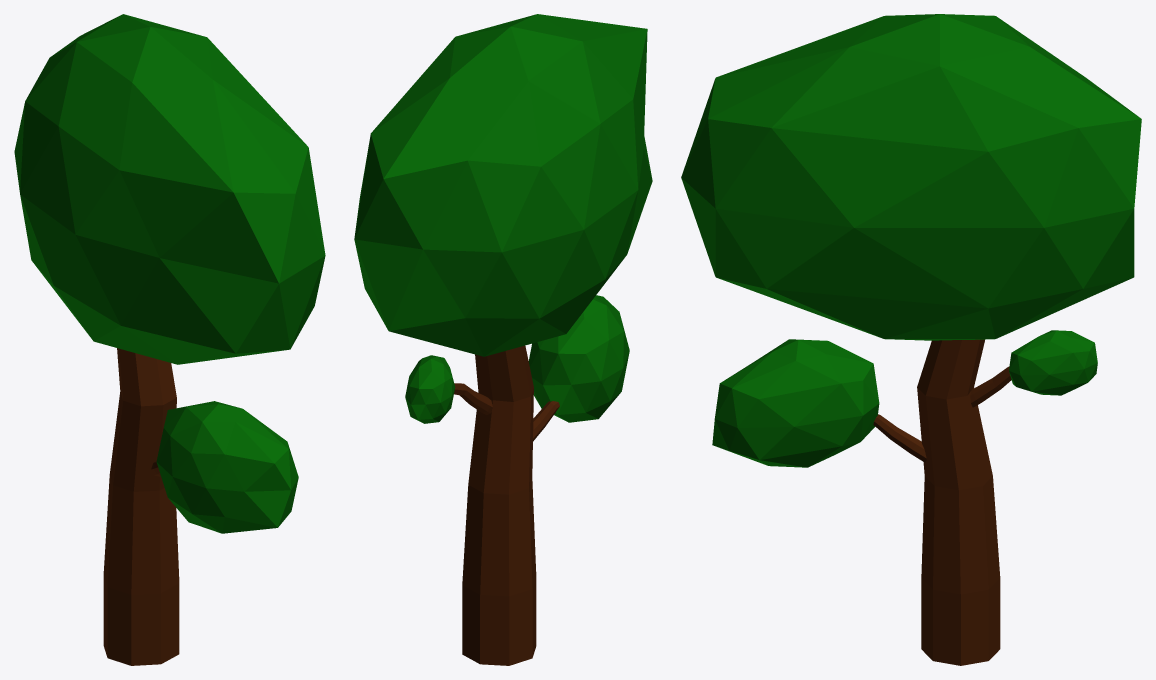
The model's file is Tree1.fbx.
3 renders of one model, left to right at view 1: azimuth 30°, elevation 25°; view 2: azimuth 150°, elevation 25°; view 3: azimuth 270°, elevation 25°, orthographic. The views are drawn at different scales.
Parts seen in each view (by area): view 1: Drzewo; view 2: Drzewo; view 3: Drzewo.
Boxes of the visible parts, x1,y1,x2,y2 form: Drzewo: (14,14,325,665); Drzewo: (354,14,652,665); Drzewo: (681,14,1141,665).
Bounding box in the file's own units: 605 × 1775 × 1168.
